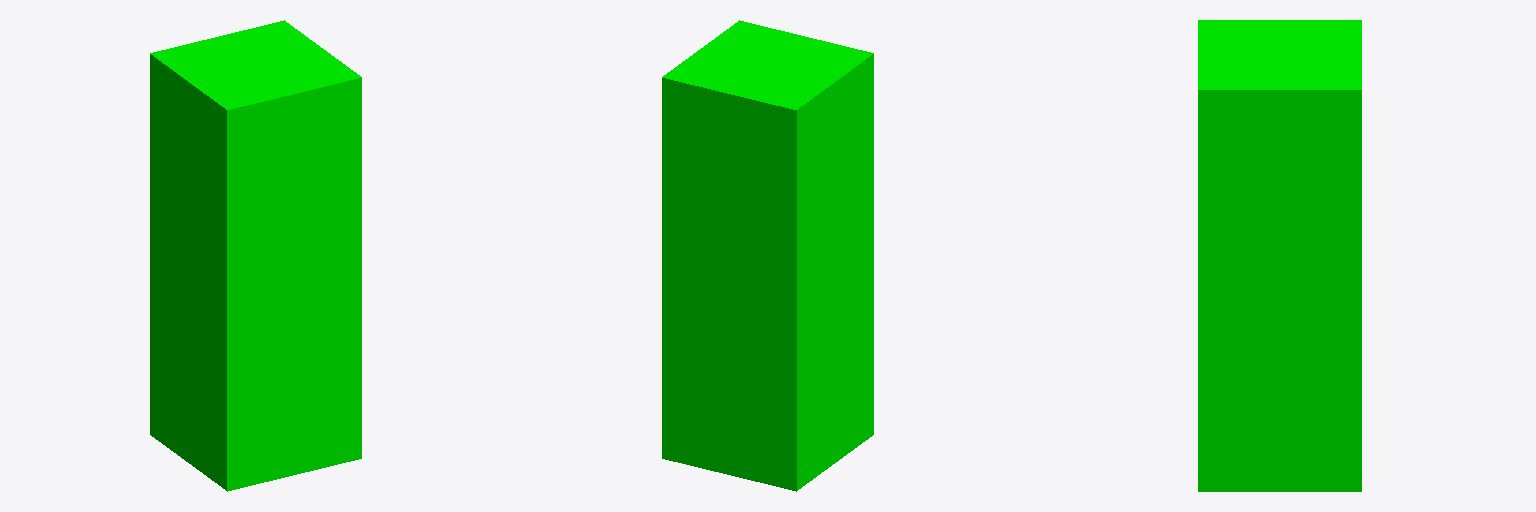
The robot description file, URDF, robot "redbox":
<?xml version="1.0" ?>

<robot name="redbox">
  <link name="redbox">
    <visual>
      <origin xyz="0 0 0.34" rpy="0 0 0" />
      <geometry> <box size="0.25 0.25 0.675"/> </geometry>
      <material name=""> <color rgba="0.0 1.0 0.0 1.0" /> </material>
    </visual>
    <collision>
      <origin xyz="0 0 0.34" rpy="0 0 0" />
      <geometry> <box size="0.25 0.25 0.675"/> </geometry>
    </collision>
    <inertial>
      <origin xyz="0 0 0.34" rpy="0 0 0" />
      <mass value="10" />
      <inertia ixx="0.001" ixy="0" ixz="0" iyy="0.001" iyz="0" izz="0.001" />
    </inertial>
  </link>

<gazebo reference="redbox"> <material>Gazebo/Red</material> </gazebo>

</robot>

--- Facts derived from the render (not from the file) ---
The picture shows the robot from 3 angles, left to right: view 1: azimuth 30°, elevation 25°; view 2: azimuth 150°, elevation 25°; view 3: azimuth 270°, elevation 25°; orthographic projection.
Model redbox with 1 links and 0 joints (none), rooted at redbox, posed every joint at zero.
Links seen in each view (by area): view 1: redbox; view 2: redbox; view 3: redbox.
Boxes of the visible links, x1,y1,x2,y2 form: redbox: (150, 20, 361, 491); redbox: (662, 20, 873, 491); redbox: (1198, 20, 1361, 491).
Bounding box of the posed robot: 0.25 × 0.25 × 0.675 m (x, y, z).
Geometry: primitives only (box / cylinder / sphere), no mesh files.
